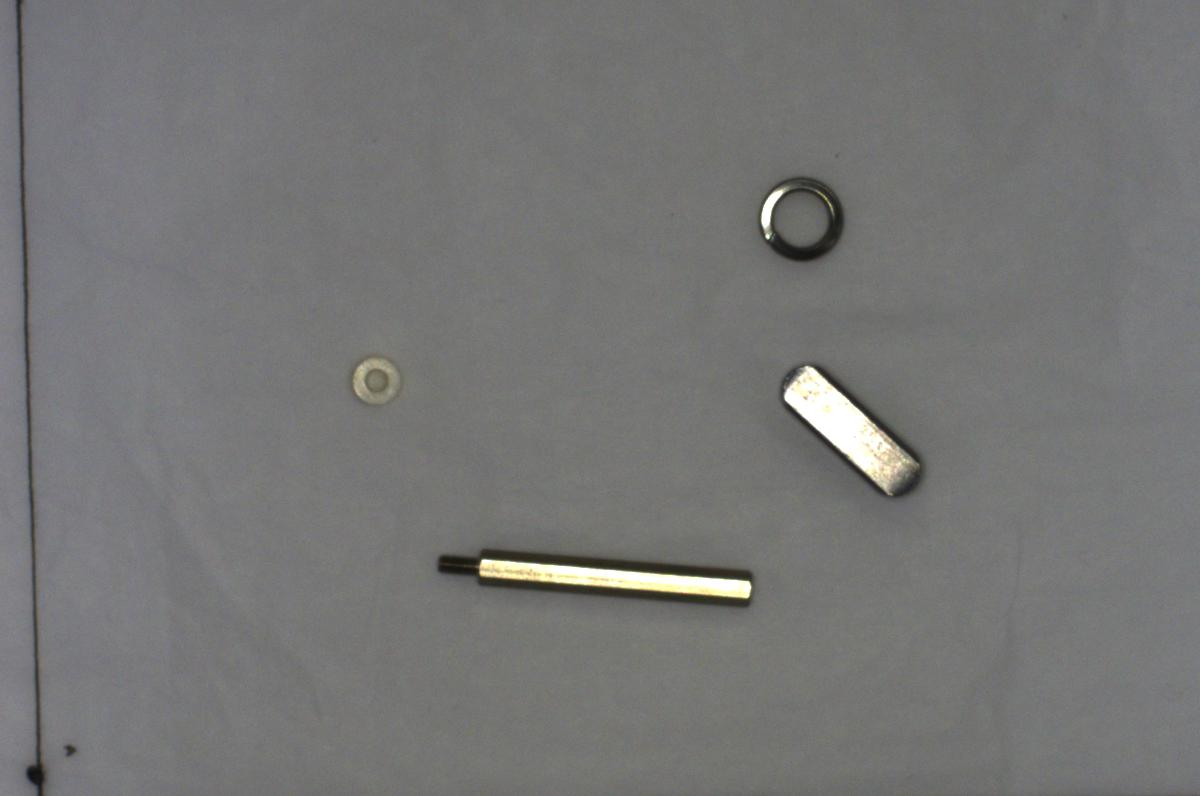Hexagonal steel column: (424, 536, 765, 626)
Keybar: (770, 354, 933, 508)
Plastic cushion pillar: (346, 348, 405, 410)
Spring washer: (753, 166, 859, 267)
